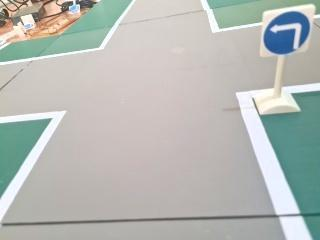left: (257, 1, 319, 61)
